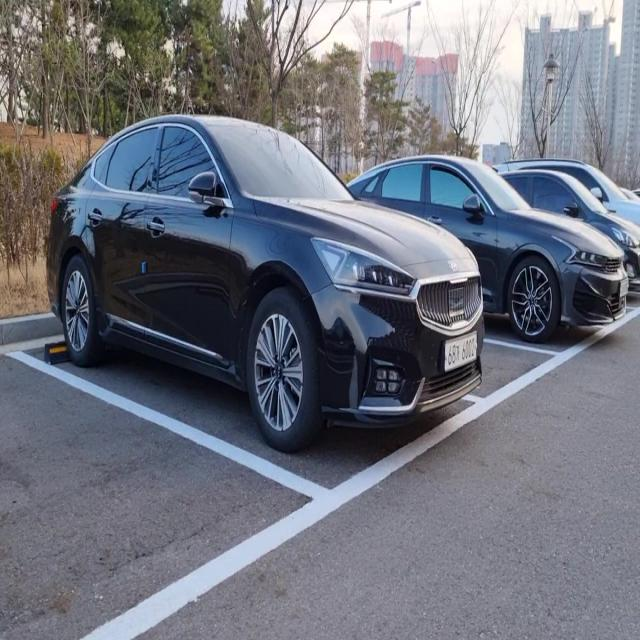occupied: (28, 111, 482, 508), (380, 157, 628, 366)
